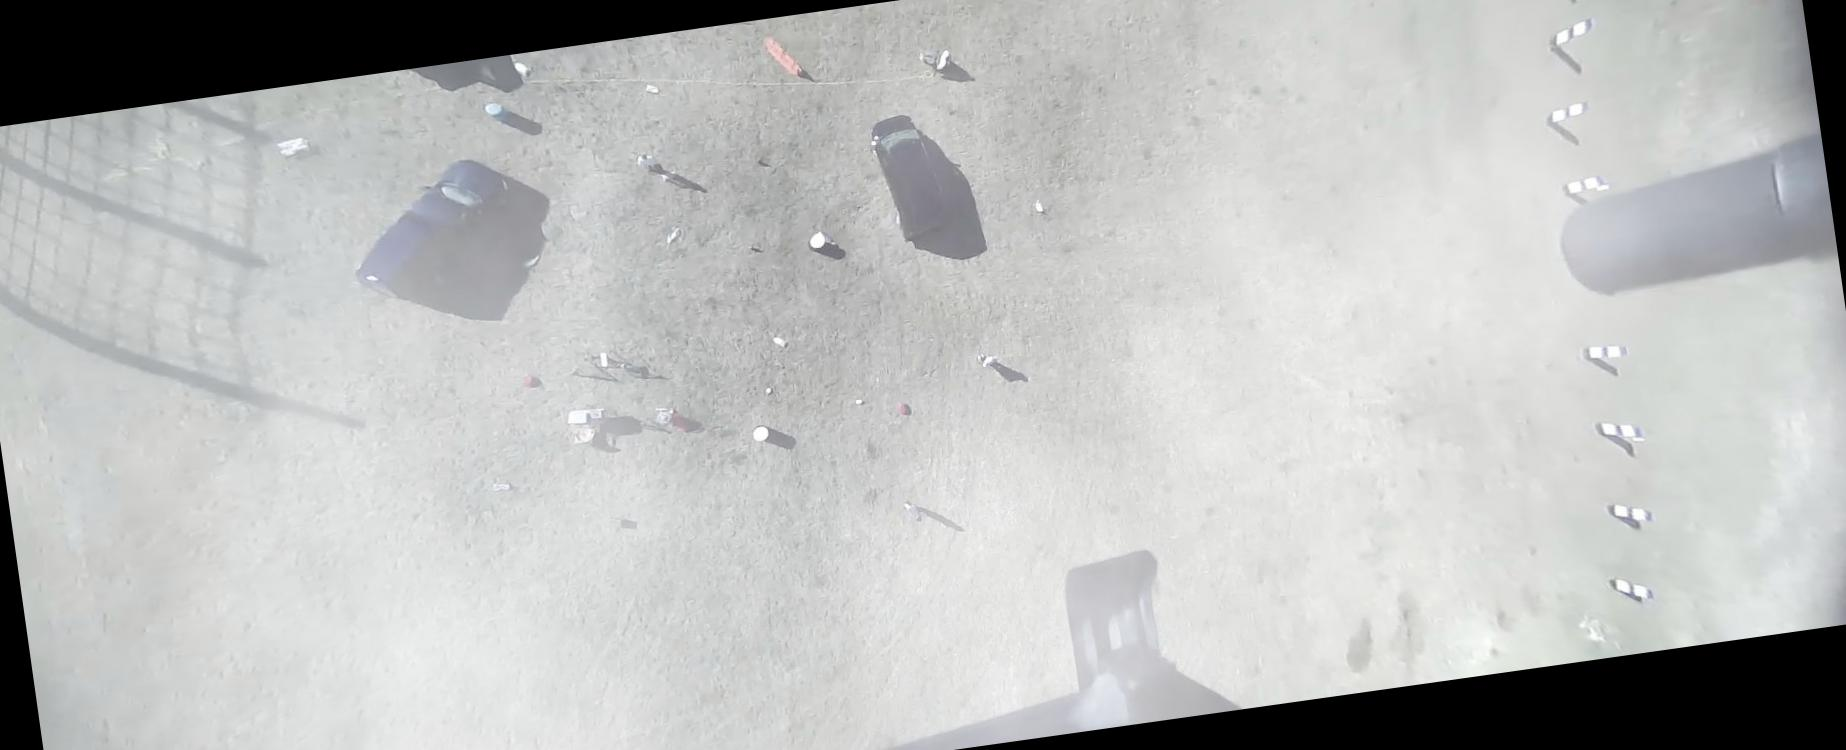vehicle: (340, 152, 524, 307), (864, 109, 952, 244)
